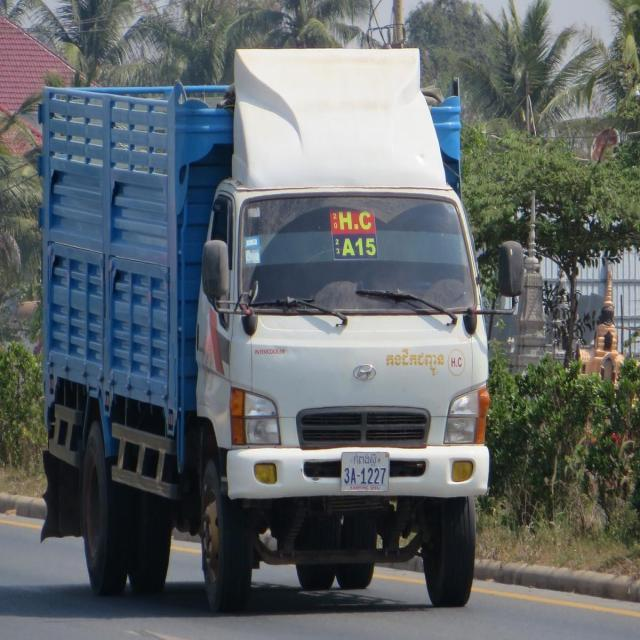Kampong_Speu: (353, 451, 379, 468)
